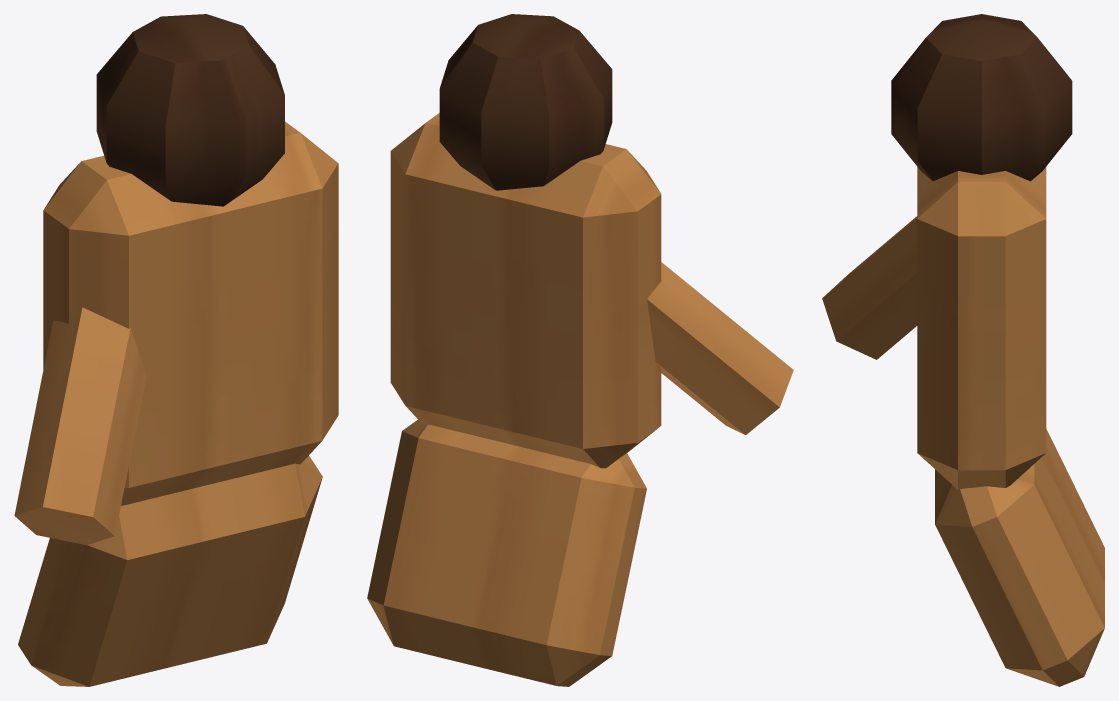
The model's file is Doll_Hand.glb.
The picture shows the model from 3 angles, left to right: view 1: azimuth 30°, elevation 25°; view 2: azimuth 150°, elevation 25°; view 3: azimuth 270°, elevation 25°; orthographic projection. The views are drawn at different scales.
Visible parts, largest first — view 1: Doll_Hand; view 2: Doll_Hand; view 3: Doll_Hand.
Part boxes in pixels (bbox=[...]): Doll_Hand: bbox=[14, 14, 338, 686]; Doll_Hand: bbox=[367, 14, 793, 686]; Doll_Hand: bbox=[822, 14, 1104, 686].
Size of the model in its own units: 0.1139 by 0.2031 by 0.0832.
Materials: 2 (2 with a texture image).
